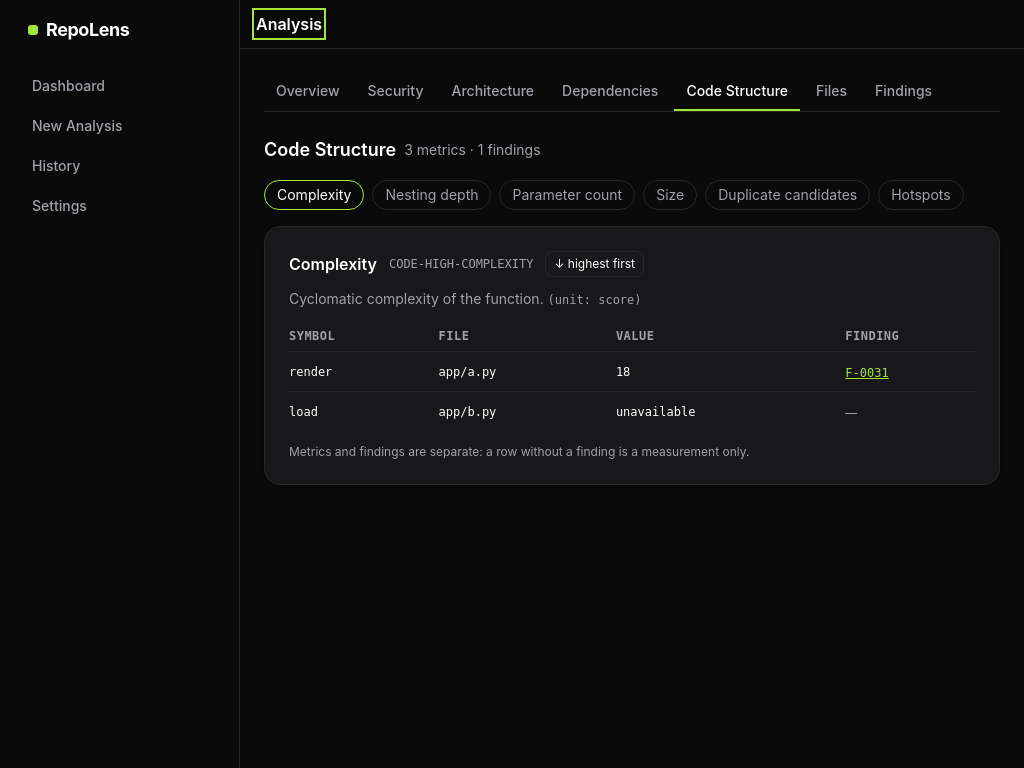
it: Code Structure page › switches tables via the segmented control with deep-link state
The width and height of the screenshot is (1024, 768).
Expected: the text "render" is shown, [289,352,438,392]
Click the button "Nesting depth" at (432, 195), box [372,180,492,210]
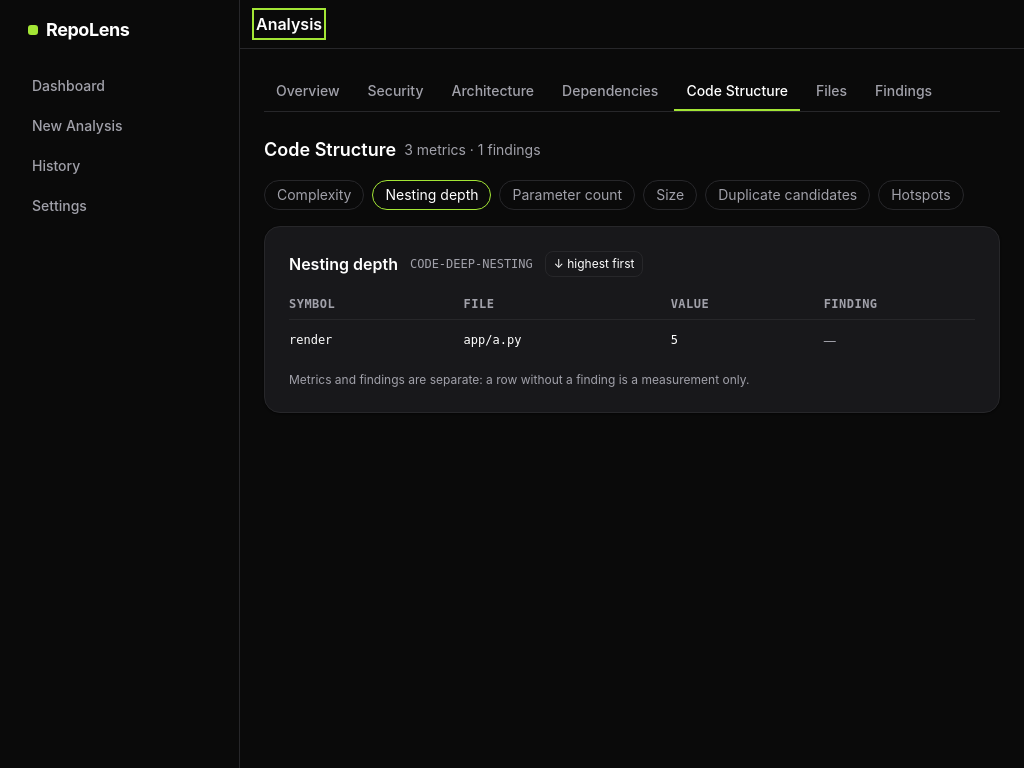
Expected: the text "5" is shown, [671,320,824,360]
Click the button "Size" at (670, 195), box [643,180,697,210]
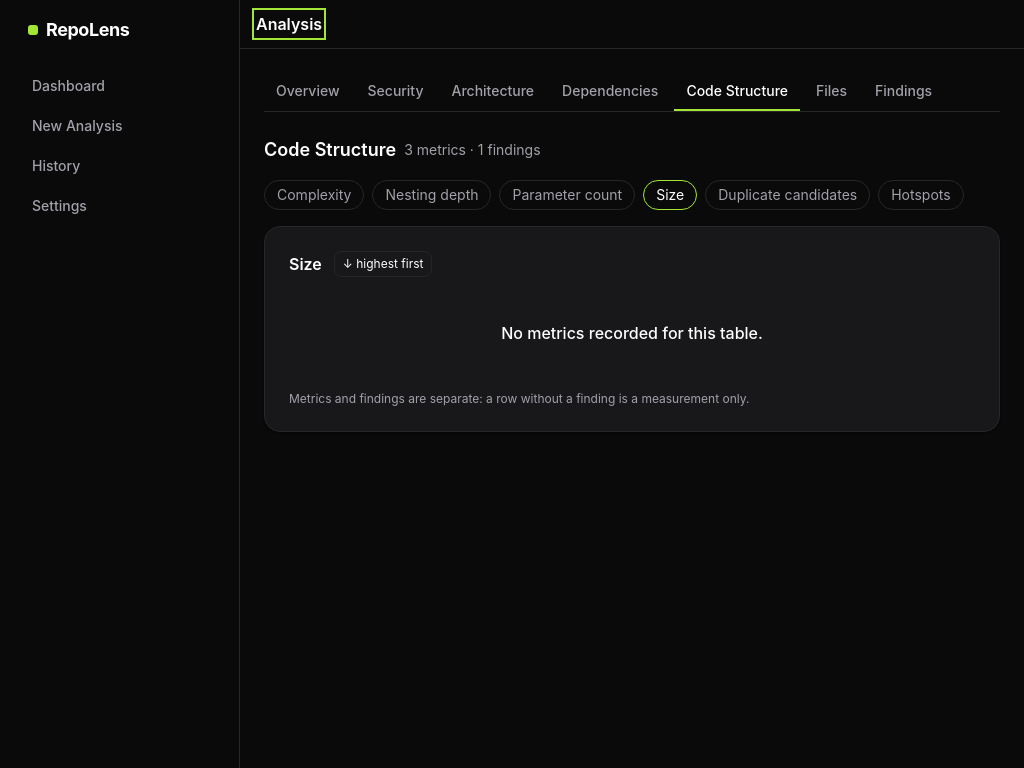
Expected: the text "No metrics recorded for this table." is shown, [501,323,763,343]
